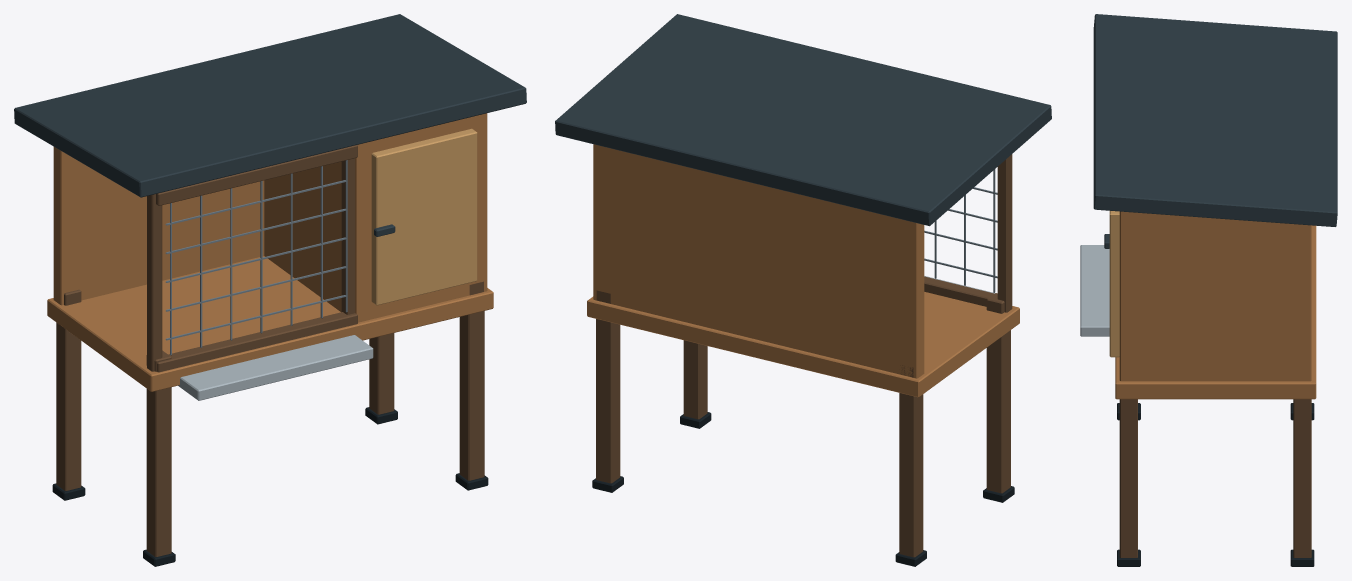
The model's file is b11_raised_backyard_rabbit_hutch.glb.
The picture shows the model from 3 angles, left to right: view 1: azimuth 30°, elevation 25°; view 2: azimuth 150°, elevation 25°; view 3: azimuth 270°, elevation 25°; orthographic projection. The views are drawn at different scales.
Visible parts, largest first — view 1: b11_raised_backyard_rabbit_hutch; view 2: b11_raised_backyard_rabbit_hutch; view 3: b11_raised_backyard_rabbit_hutch.
Boxes of the visible parts, x1,y1,x2,y2 form: b11_raised_backyard_rabbit_hutch: (14,14,526,566); b11_raised_backyard_rabbit_hutch: (555,14,1051,566); b11_raised_backyard_rabbit_hutch: (1080,14,1337,566).
Bounding box in the file's own units: 1.41 × 1.39 × 0.8456.
